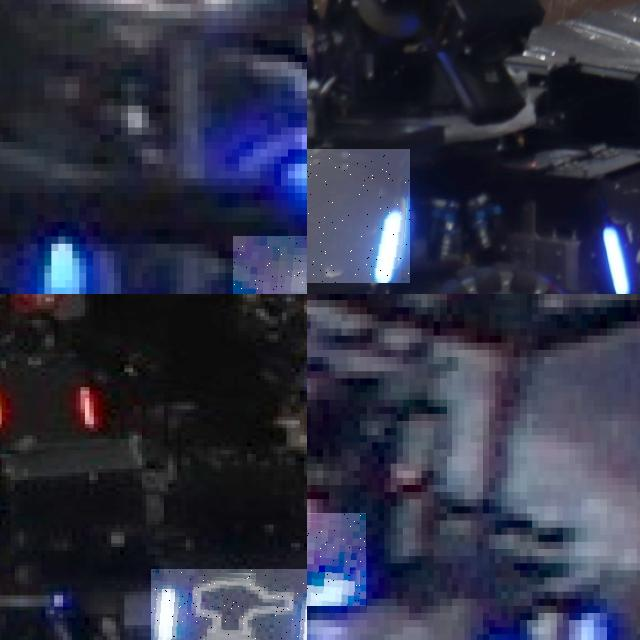B1: (307, 513, 366, 605), (470, 605, 599, 640), (232, 236, 307, 294)
B3: (307, 148, 410, 283)
B4: (604, 190, 640, 294)
Bs: (150, 569, 307, 640)
